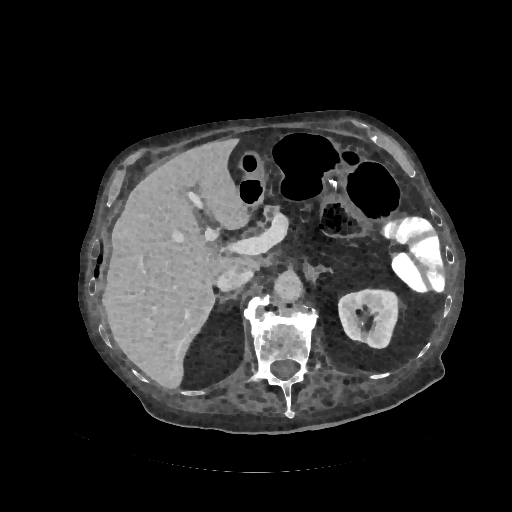Lesion: (350, 313, 367, 328)
